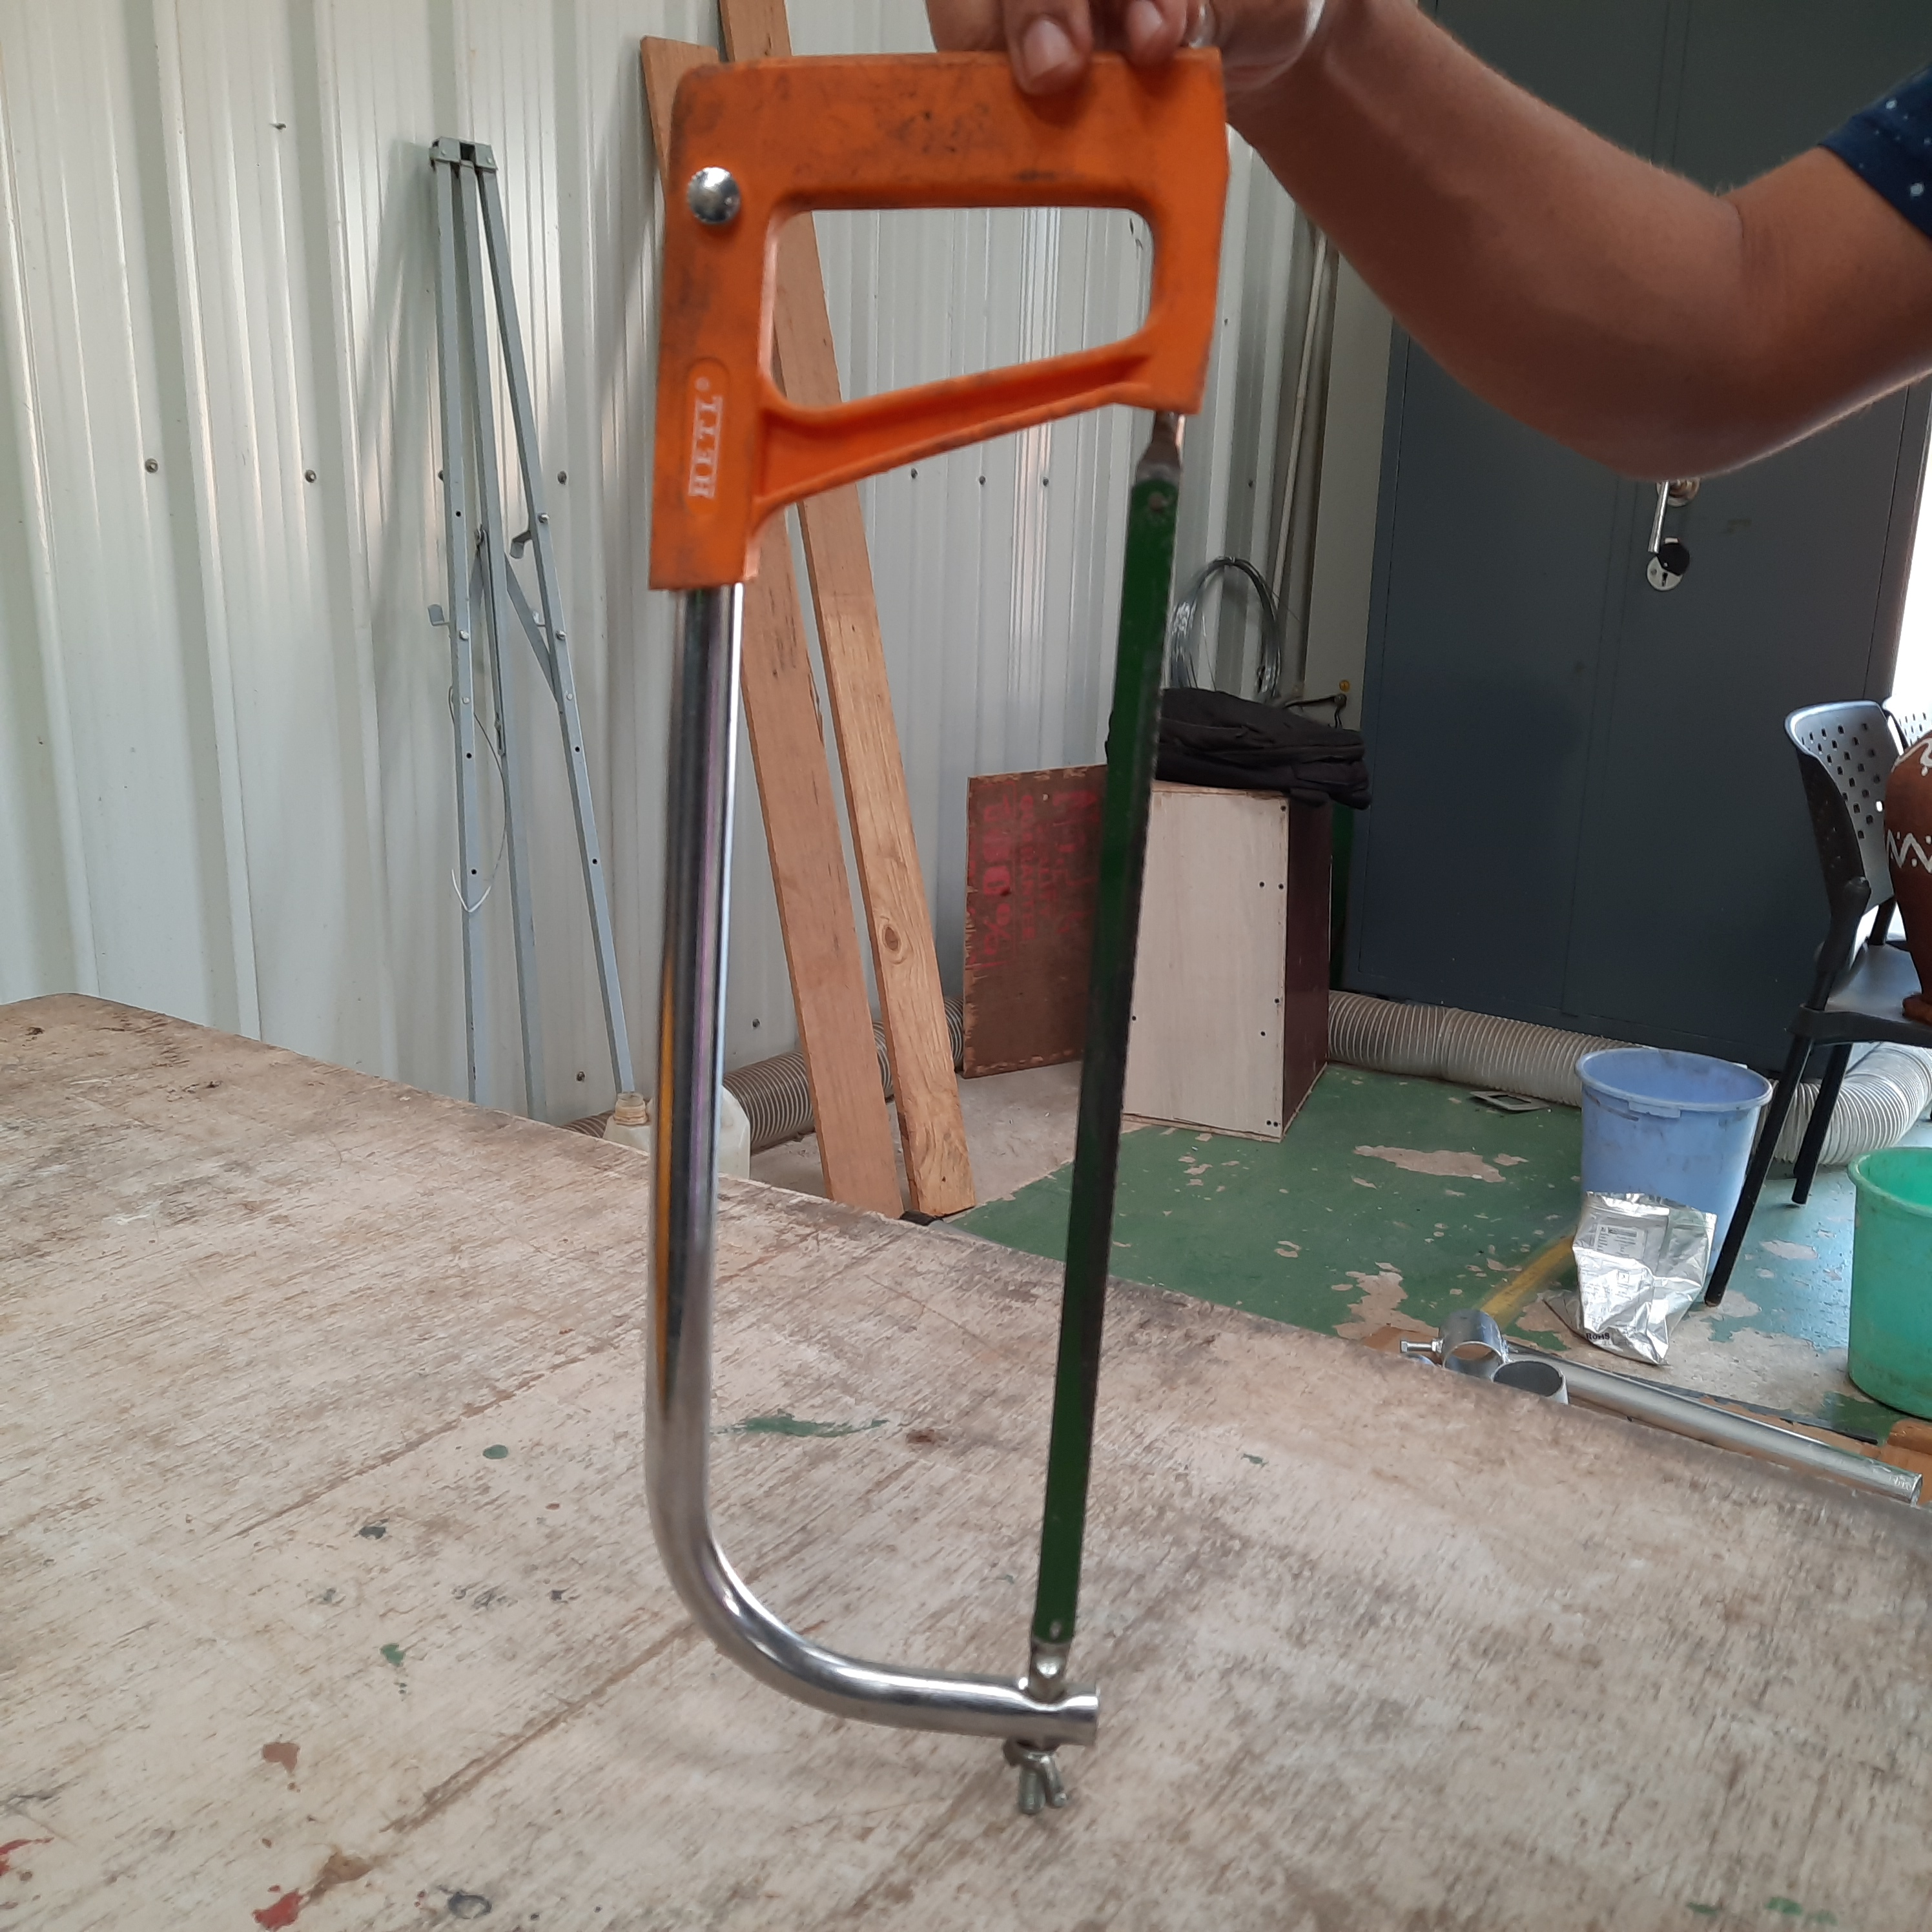Hexaframe: (635, 44, 1208, 1767)
